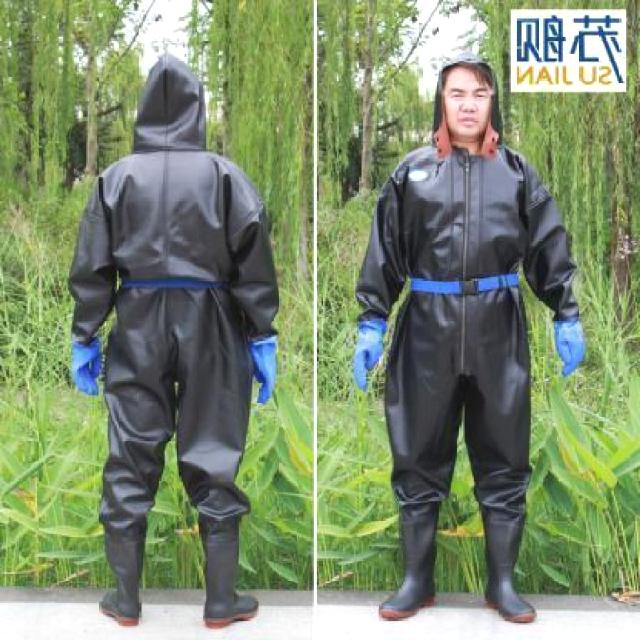boots: (370, 528, 452, 624), (474, 512, 541, 625), (200, 536, 272, 630), (93, 542, 159, 628)
face_nomask: (443, 77, 499, 146)
hand_glove: (348, 323, 386, 391), (66, 340, 105, 397), (555, 316, 588, 378), (252, 335, 280, 403)
head_nohelmet: (142, 48, 203, 108), (438, 54, 502, 83)
person: (334, 37, 606, 628), (56, 55, 306, 636)
